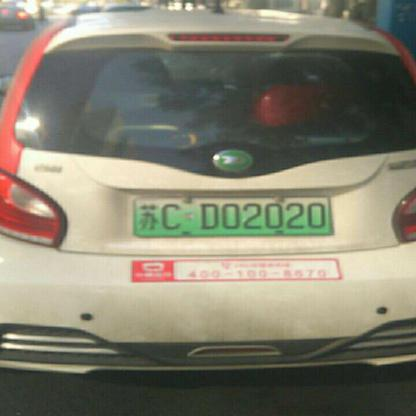lp: (136, 197, 330, 233)
